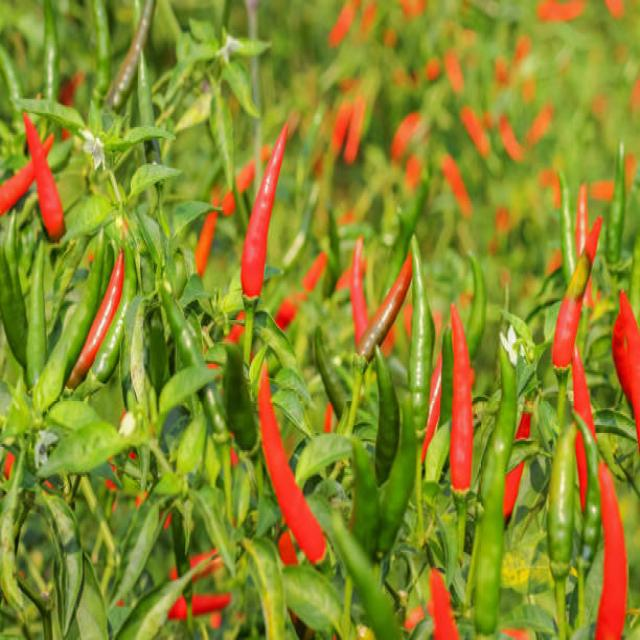Half-Ripe: (552, 218, 601, 369), (358, 253, 412, 361), (105, 0, 154, 110)
Ripe: (259, 362, 326, 563), (242, 124, 288, 297), (66, 249, 122, 387), (595, 461, 628, 638), (24, 112, 65, 241), (611, 291, 640, 447), (451, 304, 474, 491), (421, 351, 441, 460), (350, 236, 369, 344), (574, 347, 595, 438), (502, 461, 523, 518), (575, 182, 589, 256), (575, 431, 588, 509), (515, 412, 529, 440)
Unripe: (34, 231, 105, 412), (474, 349, 518, 635), (160, 281, 225, 439), (91, 246, 136, 382), (548, 424, 576, 638), (409, 236, 434, 442), (0, 210, 28, 367), (579, 418, 601, 575), (375, 347, 400, 485), (26, 240, 48, 387), (138, 51, 164, 173), (605, 141, 626, 265), (559, 171, 576, 282)
